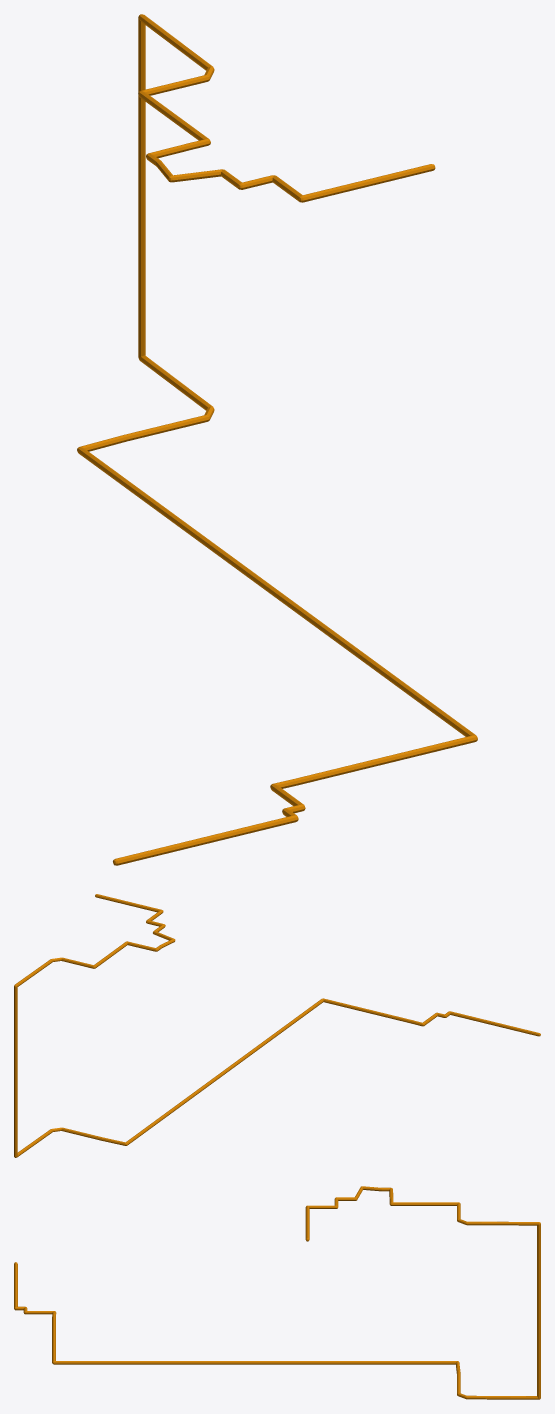
The picture shows the model from 3 angles, top to bottom: view 1: azimuth 30°, elevation 25°; view 2: azimuth 150°, elevation 25°; view 3: azimuth 270°, elevation 25°; orthographic projection. The views are drawn at different scales.
Bounding box in the file's own units: 1867 × 1020 × 2742.
